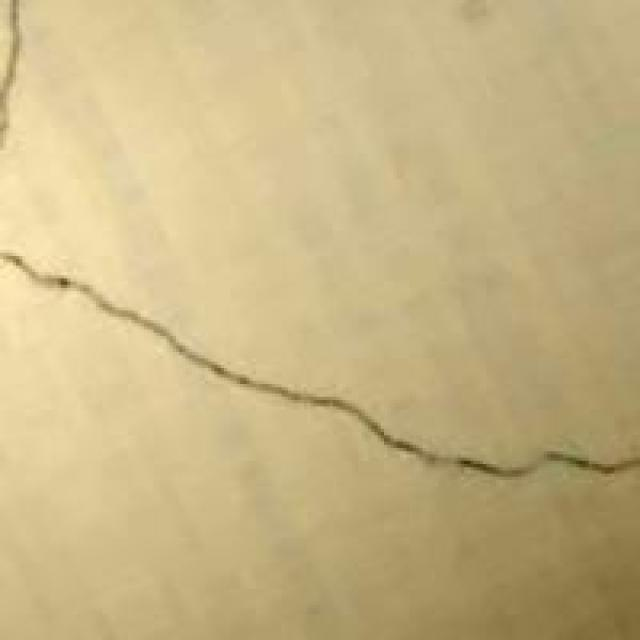Crack: (9, 202, 636, 499)
